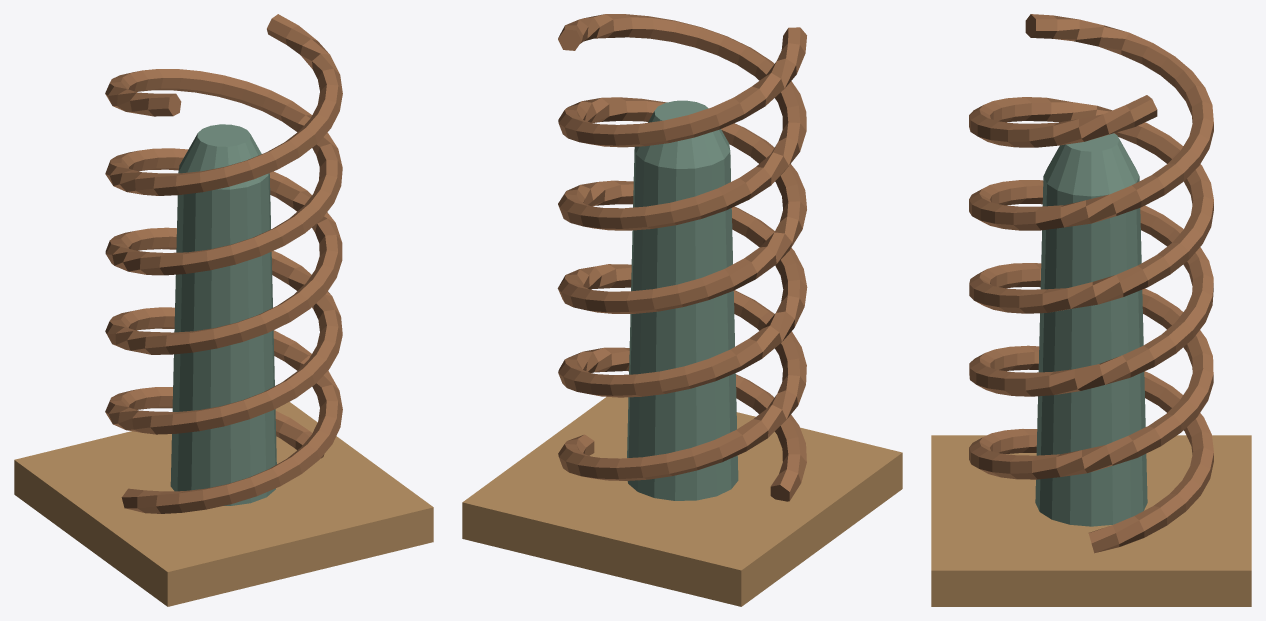
Rendered from concordance_coil.glb.
The picture shows the model from 3 angles, left to right: view 1: azimuth 30°, elevation 25°; view 2: azimuth 150°, elevation 25°; view 3: azimuth 270°, elevation 25°; orthographic projection. The views are drawn at different scales.
Visible parts, largest first — view 1: Concordance • double helical copper coil; view 2: Concordance • double helical copper coil; view 3: Concordance • double helical copper coil.
Part boxes in pixels (x1,y1,x2,y2): Concordance • double helical copper coil: (14, 14, 433, 606); Concordance • double helical copper coil: (462, 14, 902, 606); Concordance • double helical copper coil: (931, 14, 1251, 606).
Size of the model in its own units: 0.4 by 0.665 by 0.4.
